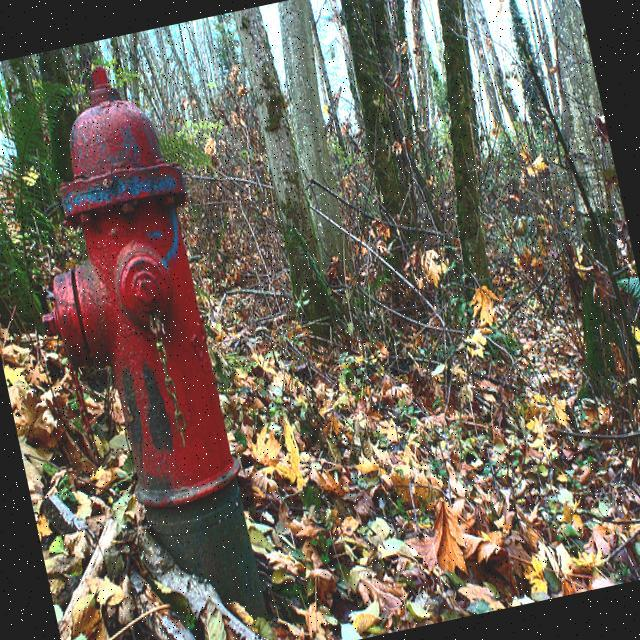fire_hydrant: (0, 52, 275, 640)
